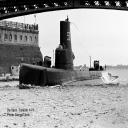submarine: (20, 20, 119, 87)
